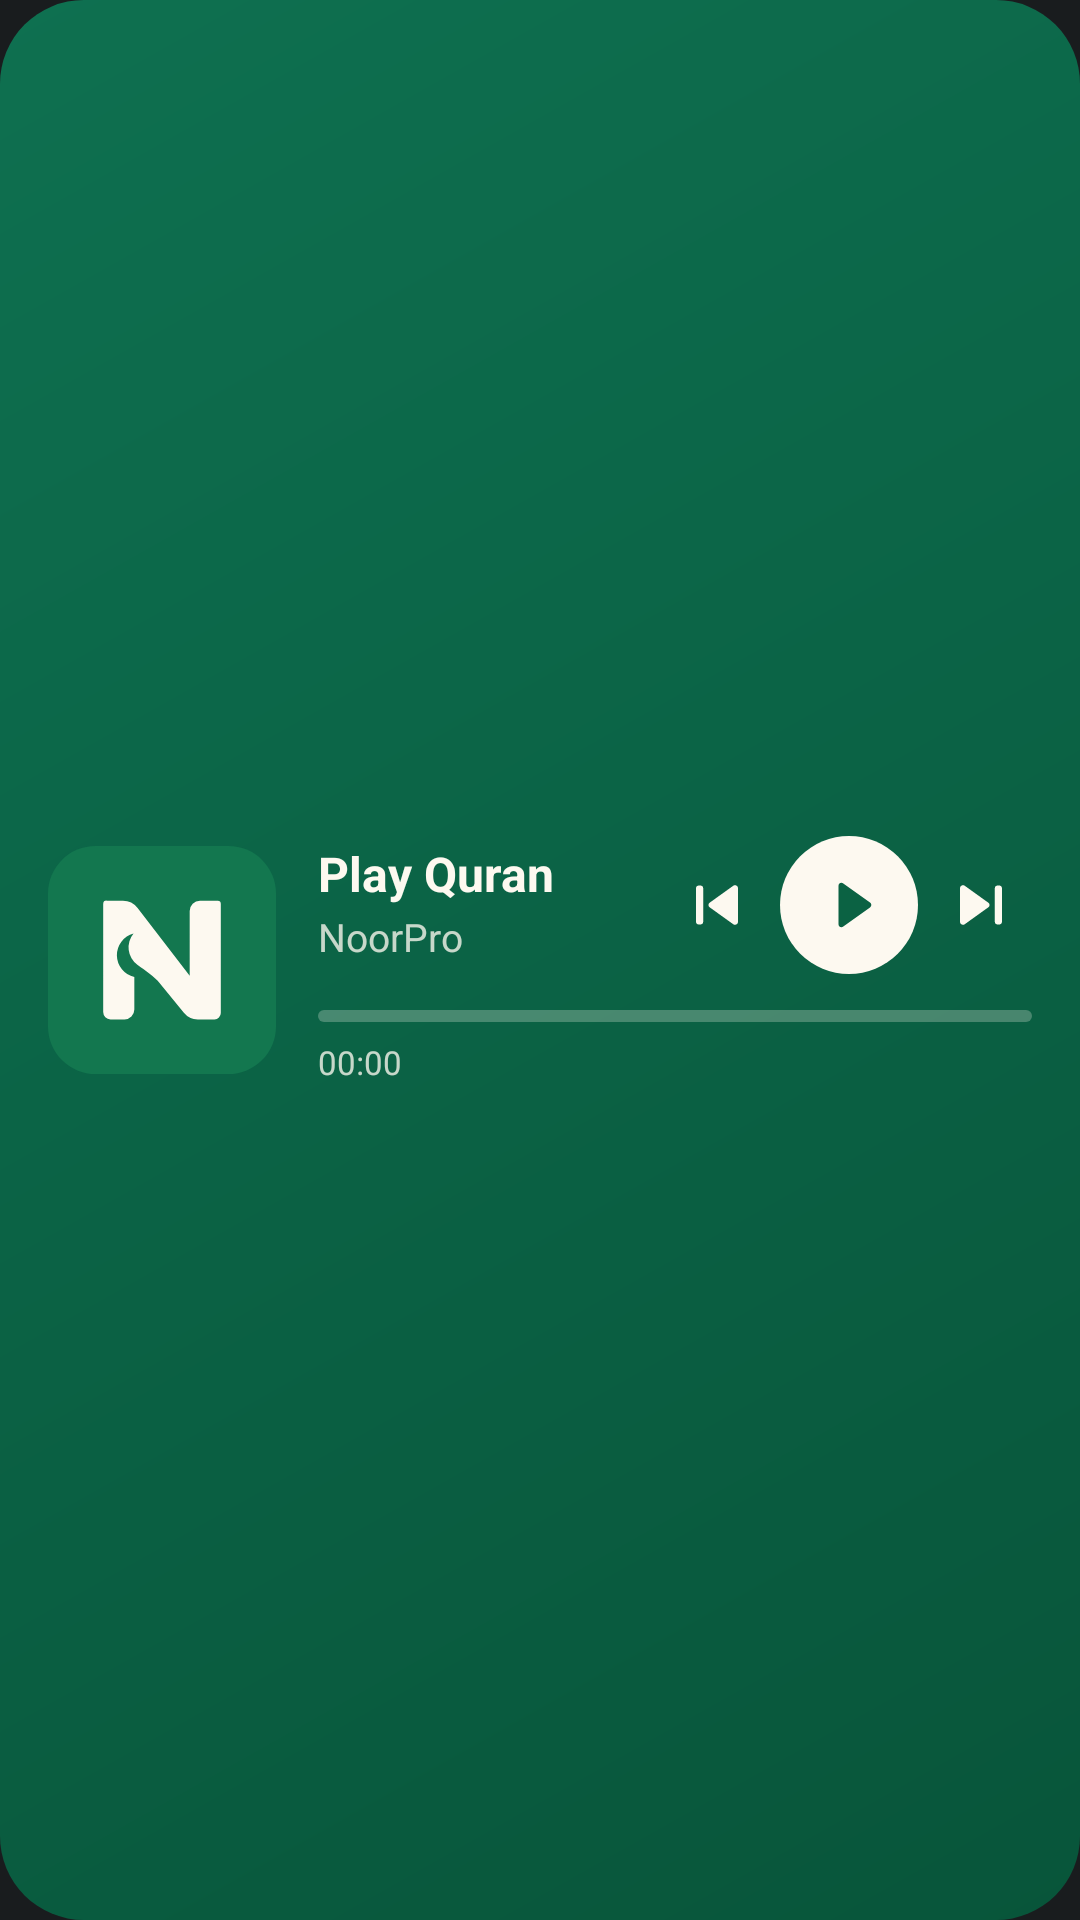

Locate icon controls on the screen. Image size 1080 × 1920, boxes as (x1, y1, x2, y2).
Next: (960, 885, 1002, 925)
Play or pause: (838, 882, 872, 928)
Previous: (696, 885, 738, 925)
